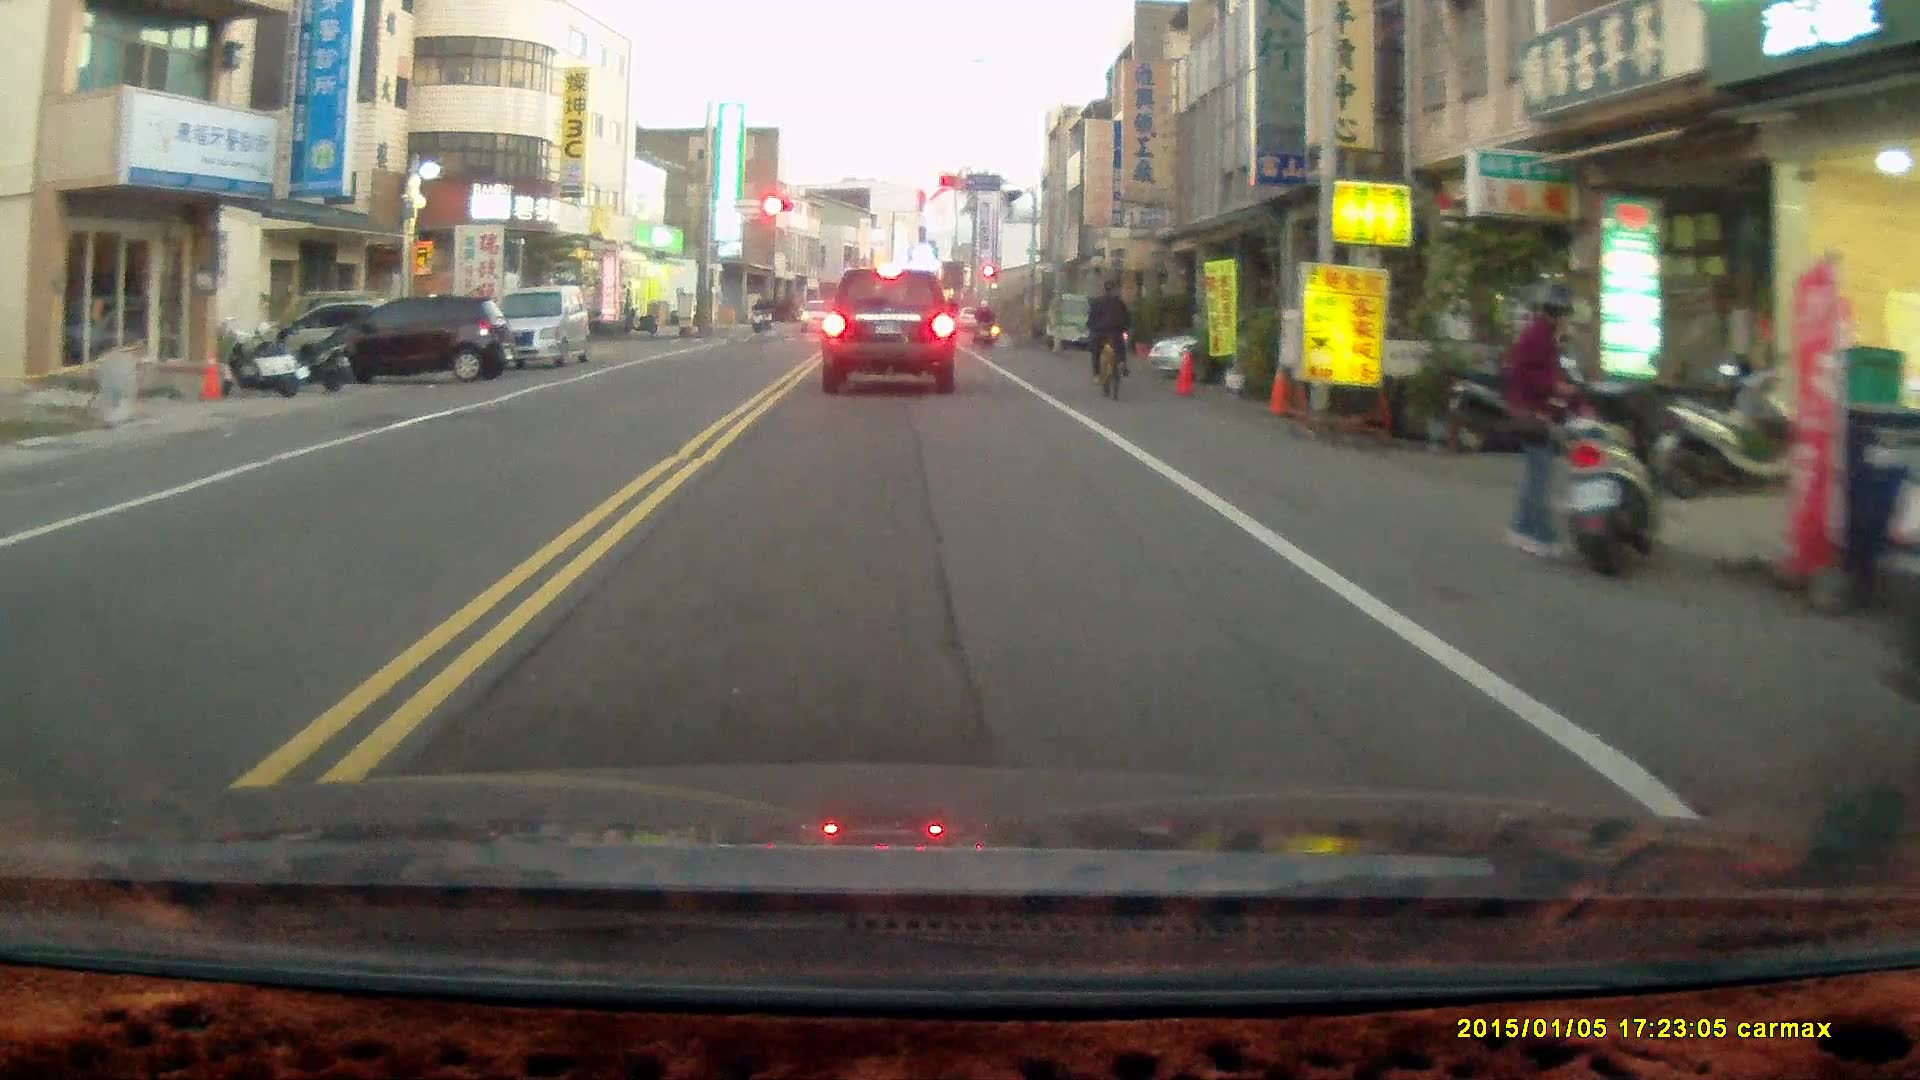pedestrian: (1502, 278, 1592, 557)
rider: (1086, 275, 1135, 399), (971, 294, 996, 348), (747, 295, 769, 335)
vehicle: (316, 292, 512, 390), (820, 267, 958, 396), (1147, 313, 1374, 384), (468, 283, 593, 369)
